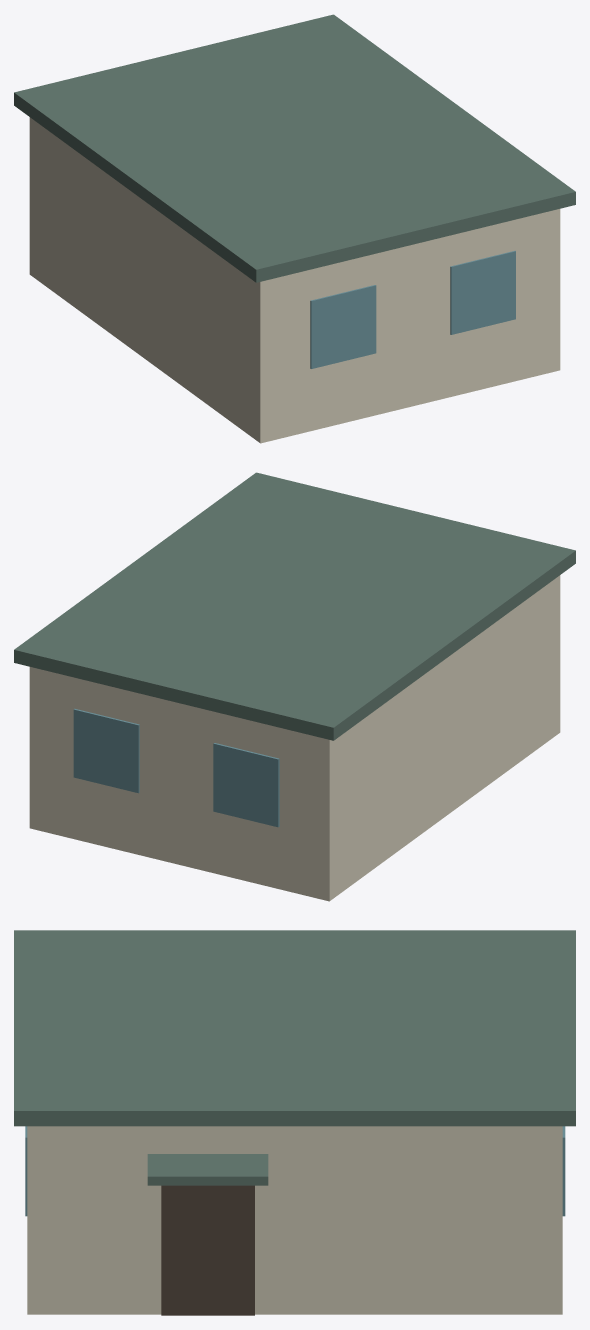
File: kiosk.glb
The picture shows the model from 3 angles, top to bottom: view 1: azimuth 30°, elevation 25°; view 2: azimuth 150°, elevation 25°; view 3: azimuth 270°, elevation 25°; orthographic projection. The views are drawn at different scales.
Bounding box in the file's own units: 7 × 3.45 × 8.4.
